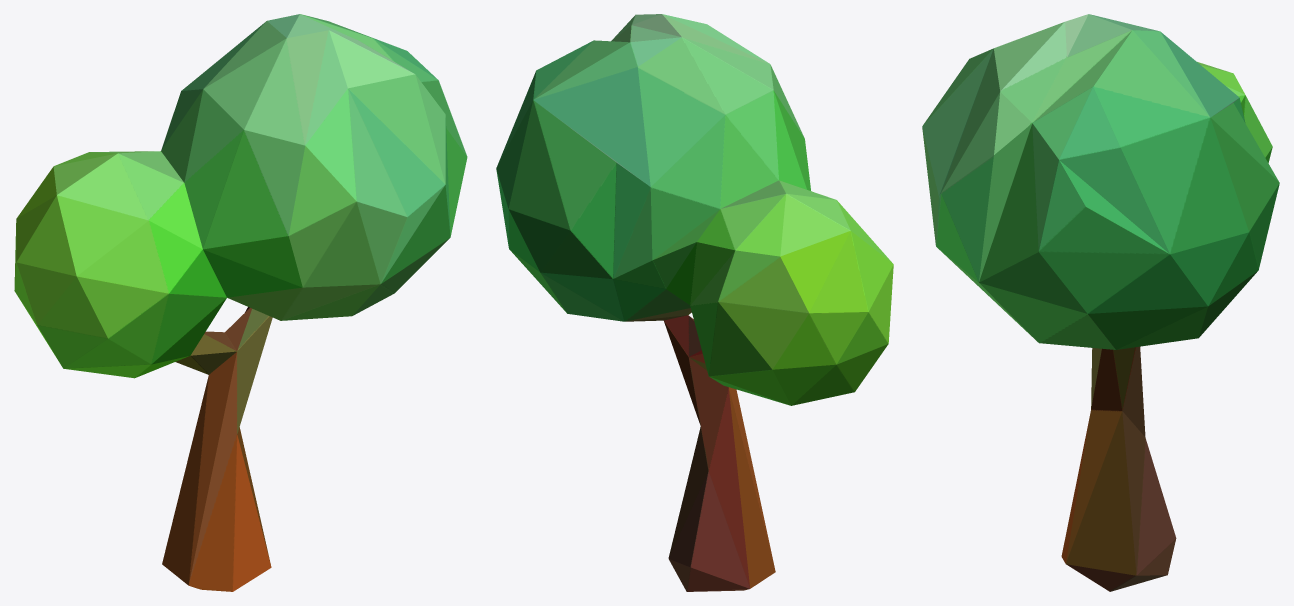
The model's file is Tree2.fbx.
The picture shows the model from 3 angles, left to right: view 1: azimuth 30°, elevation 25°; view 2: azimuth 150°, elevation 25°; view 3: azimuth 270°, elevation 25°; orthographic projection. The views are drawn at different scales.
Visible parts, largest first — view 1: Mesh_0; view 2: Mesh_0; view 3: Mesh_0.
Part boxes in pixels (<box>): Mesh_0: <box>14,14,467,591</box>; Mesh_0: <box>496,14,893,591</box>; Mesh_0: <box>922,14,1279,591</box>.
Size of the model in its own units: 143 by 193 by 104.
1 material, 1 textured.
